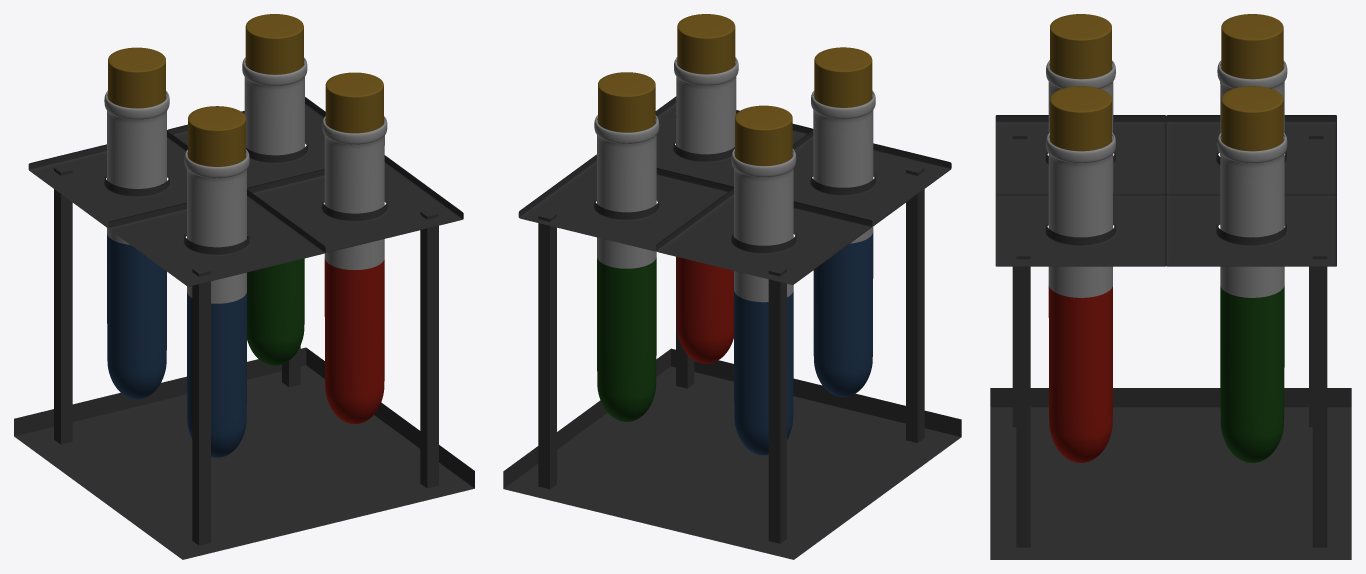
File: four_tube.glb
3 views of the same model, side by side, from view 1: azimuth 30°, elevation 25°; view 2: azimuth 150°, elevation 25°; view 3: azimuth 270°, elevation 25° (orthographic). The views are drawn at different scales.
Parts seen in each view (by area): view 1: Plane, Plane.001, Sphere.002, Sphere.004, Sphere, Sphere.006, Cube, Cube.002, Cube.001, Sphere.003, Sphere.007, Sphere.005 (+1 smaller); view 2: Plane, Plane.001, Sphere.006, Sphere, Sphere.004, Sphere.002, Cube.003, Cube.001, Cube, Sphere.001, Sphere.003, Sphere.007 (+2 smaller); view 3: Plane, Plane.001, Sphere.006, Sphere.002, Cube.003, Cube.002, Sphere.007, Sphere.005, Sphere.003, Sphere.001, Sphere.004, Sphere (+2 smaller).
Part boxes in pixels (x1,y1,x2,y2): Plane: (14,347,474,559); Plane.001: (28,97,463,286); Sphere.002: (322,116,387,424); Sphere.004: (104,91,169,399); Sphere: (184,149,249,457); Sphere.006: (242,57,307,365); Cube: (192,266,210,545); Cube.002: (420,209,438,488); Cube.001: (54,165,72,444); Sphere.003: (325,72,383,133); Sphere.007: (245,14,303,74); Sphere.005: (108,47,165,108); Plane: (503,348,961,559); Plane.001: (518,96,951,284); Sphere.006: (594,115,659,421); Sphere: (811,90,875,397); Sphere.004: (731,149,796,455); Sphere.002: (674,57,738,363); Cube.003: (538,211,556,489); Cube.001: (768,266,786,543); Cube: (906,165,924,443); Sphere.001: (814,47,872,107); Sphere.003: (677,14,735,74); Sphere.007: (598,72,655,132); Plane: (990,388,1351,559); Plane.001: (995,115,1336,266); Sphere.006: (1217,132,1287,462); Sphere.002: (1046,132,1115,462); Cube.003: (1312,250,1327,547); Cube.002: (1016,250,1030,547); Sphere.007: (1221,86,1283,151); Sphere.005: (1221,14,1283,78); Sphere.003: (1050,86,1111,151); Sphere.001: (1050,14,1111,78); Sphere.004: (1217,60,1287,132); Sphere: (1046,60,1115,132).
Size of the model in its own units: 0.4896 by 0.632 by 0.4896.
